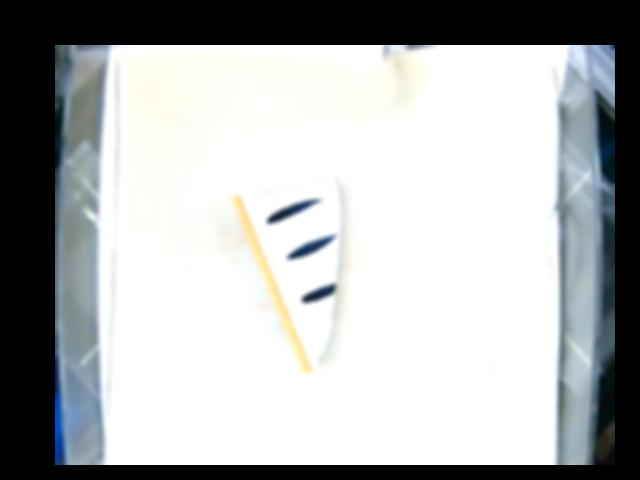China: (231, 176, 341, 373)
